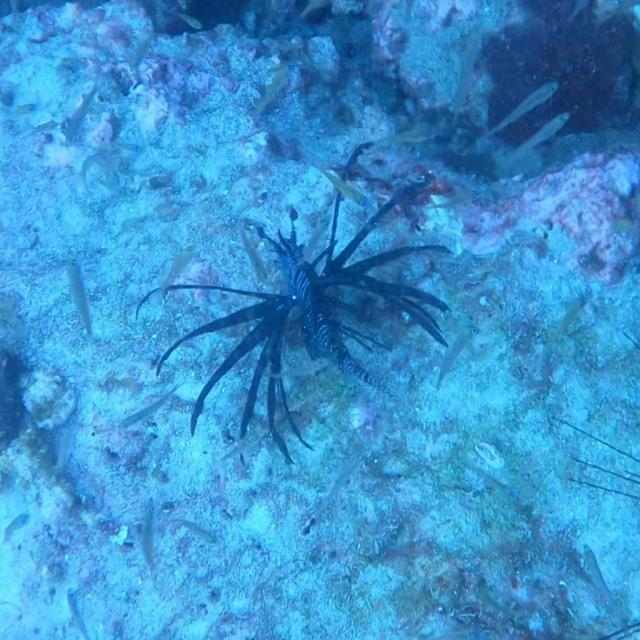Aslan Baligi: (134, 180, 456, 468)
